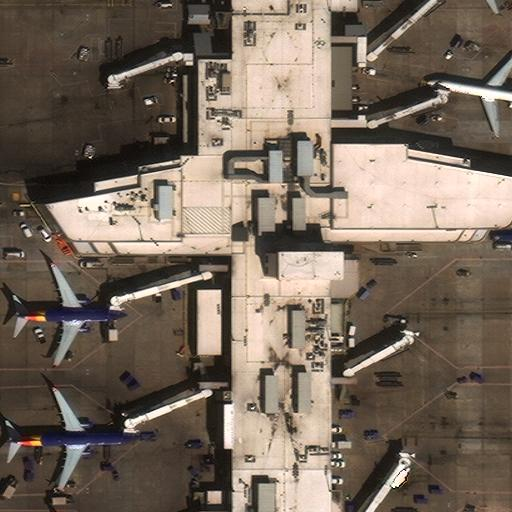Medium Civil Transport: (8, 388, 139, 489), (15, 264, 127, 365), (426, 54, 512, 136)
